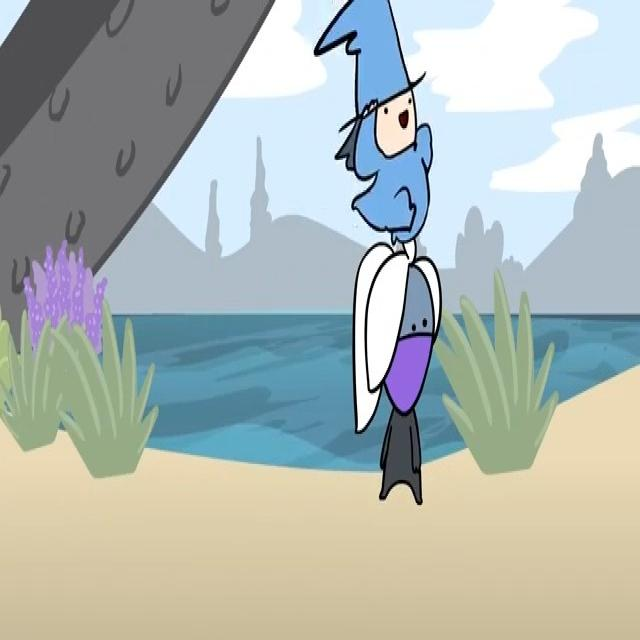Josh: (314, 0, 433, 247)
miss Demeanor: (352, 239, 442, 506)
